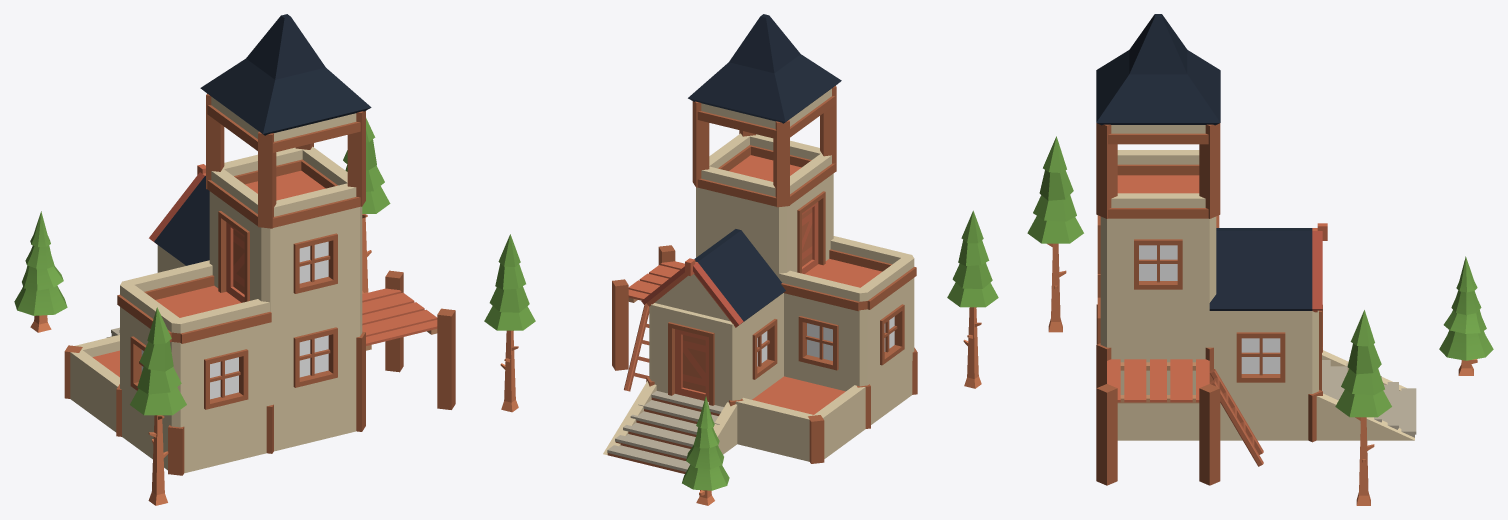
The model's file is tour_de_guet.glb.
3 views of the same model, side by side, from view 1: azimuth 30°, elevation 25°; view 2: azimuth 150°, elevation 25°; view 3: azimuth 270°, elevation 25° (orthographic). The views are drawn at different scales.
Parts seen in each view (by area): view 1: mergedBlocks(Clone); view 2: mergedBlocks(Clone); view 3: mergedBlocks(Clone).
Part boxes in pixels (x1,y1,x2,y2): mergedBlocks(Clone): [14, 14, 455, 505]; mergedBlocks(Clone): [484, 14, 998, 505]; mergedBlocks(Clone): [1027, 14, 1493, 505].
Size of the model in its own units: 4.48 by 4.31 by 4.54.
Materials: 1 (1 with a texture image).
